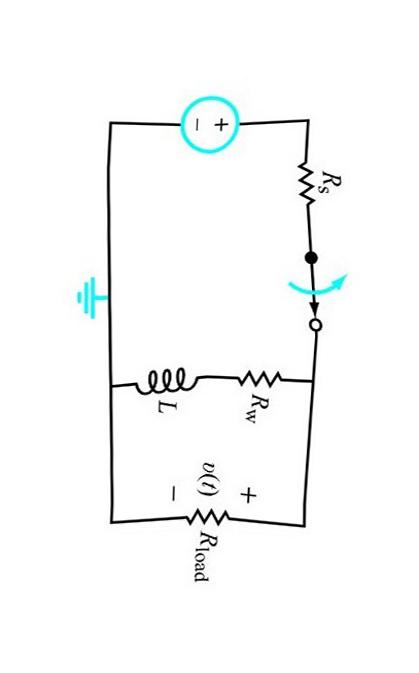Battery: (154, 85, 261, 167)
